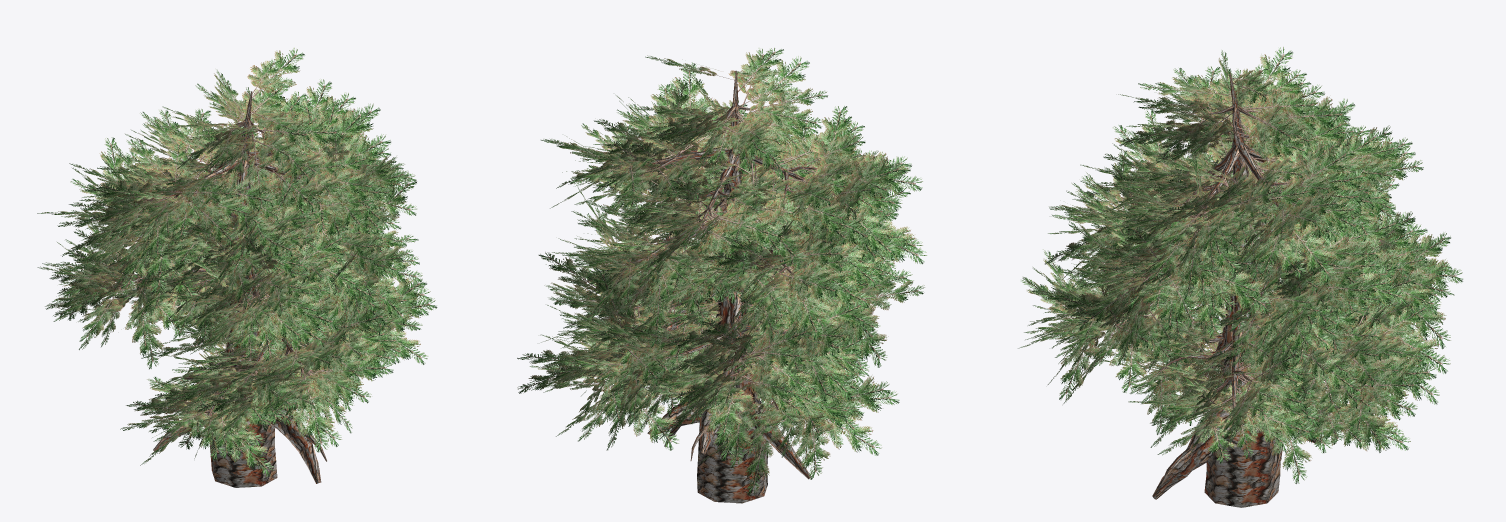
Rendered from turbotwig-conifer-12345.glb.
3 renders of one model, left to right at view 1: azimuth 30°, elevation 25°; view 2: azimuth 150°, elevation 25°; view 3: azimuth 270°, elevation 25°, orthographic. The views are drawn at different scales.
Visible parts, largest first — view 1: leaves, bark; view 2: leaves, bark; view 3: leaves, bark.
Part boxes in pixels (<box>): leaves: <box>37,47,437,476</box>; bark: <box>107,91,326,487</box>; leaves: <box>517,48,926,495</box>; bark: <box>599,71,834,503</box>; leaves: <box>1018,47,1462,483</box>; bark: <box>1116,73,1349,507</box>.
Bounding box in the file's own units: 11.04 × 11.76 × 11.7.
Materials: 2 (2 with a texture image).
